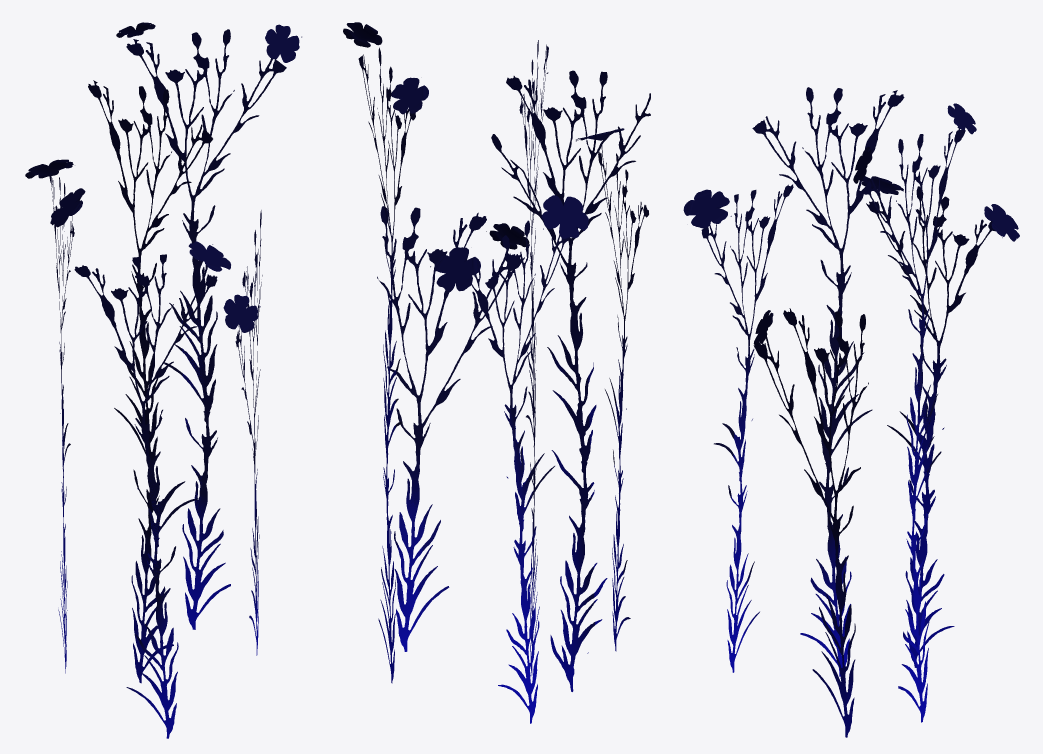
The model's file is SM_Foliage_FlaxA_01.fbx.
The picture shows the model from 3 angles, left to right: view 1: azimuth 30°, elevation 25°; view 2: azimuth 150°, elevation 25°; view 3: azimuth 270°, elevation 25°; orthographic projection. The views are drawn at different scales.
Parts seen in each view (by area): view 1: SM_Foliage_FlaxA_01; view 2: SM_Foliage_FlaxA_01; view 3: SM_Foliage_FlaxA_01.
Part boxes in pixels (x1,y1,x2,y2): SM_Foliage_FlaxA_01: (25, 22, 301, 738); SM_Foliage_FlaxA_01: (343, 22, 650, 723); SM_Foliage_FlaxA_01: (683, 87, 1019, 737).
Size of the model in its own units: 54.83 by 55.88 by 110.
